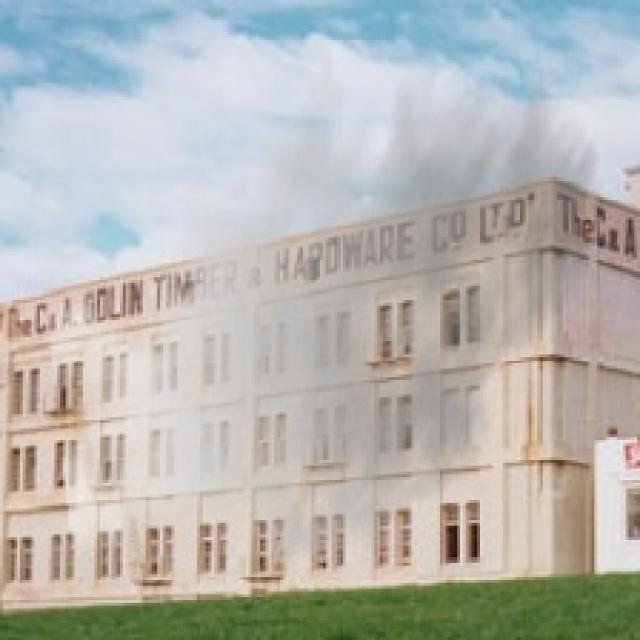smoke: (45, 23, 606, 591)
